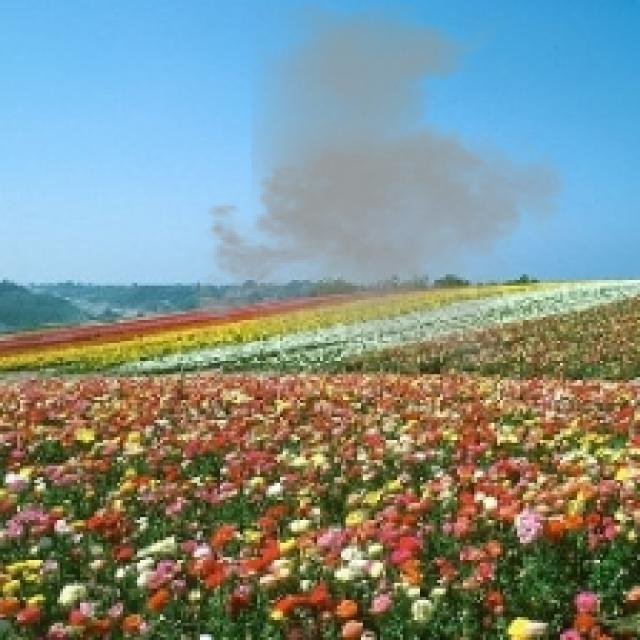Smoke: (180, 0, 584, 372)
